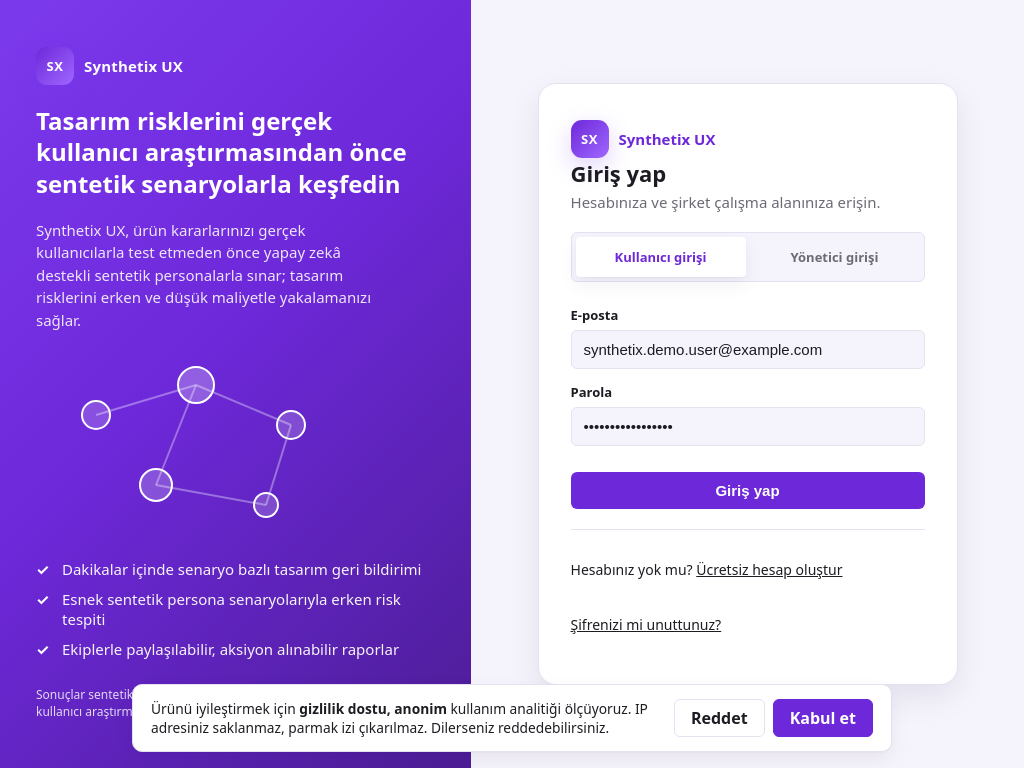
Test: Kimlik dogrulama route guard ve akislari › basarili giris sonrasi korumali sayfaya yonlendirir
Expected: the heading "Giriş yap" is shown, [570, 158, 666, 188]
Replace the text in the field labelled "E-posta" with "user@example.com": (748, 350) [570, 330, 924, 369]
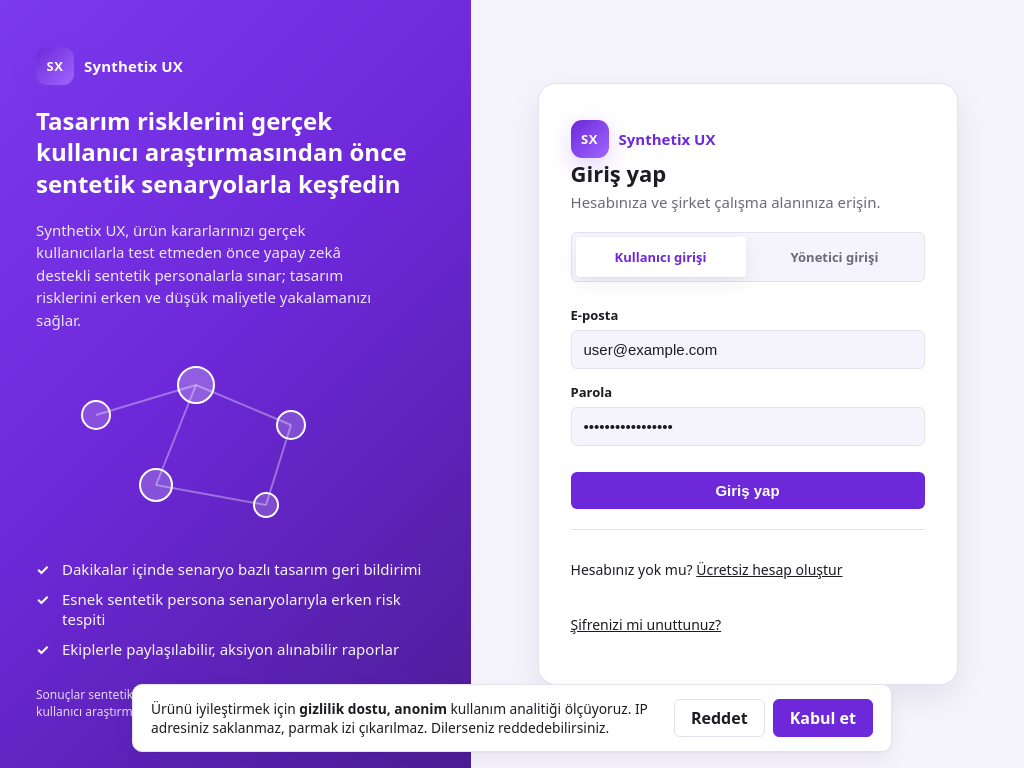
In the password field labelled "Parola": (748, 426) [570, 407, 924, 446], type "CorrectHorse123!"
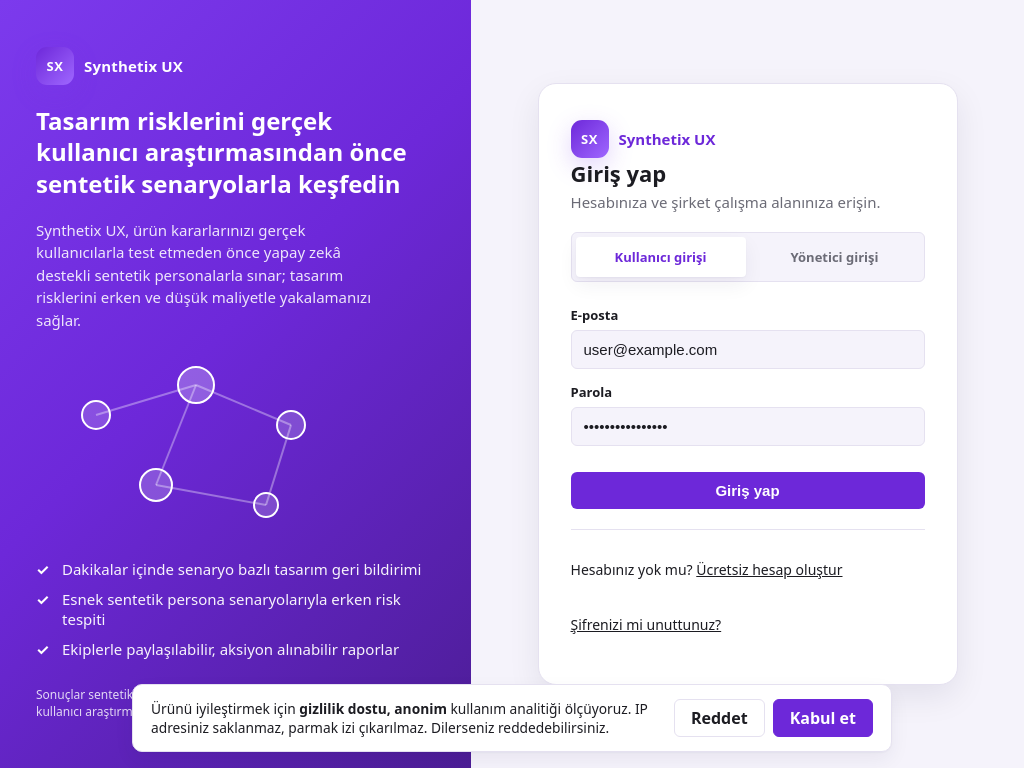
Click the button "Giriş yap": click(748, 490) [570, 472, 924, 509]
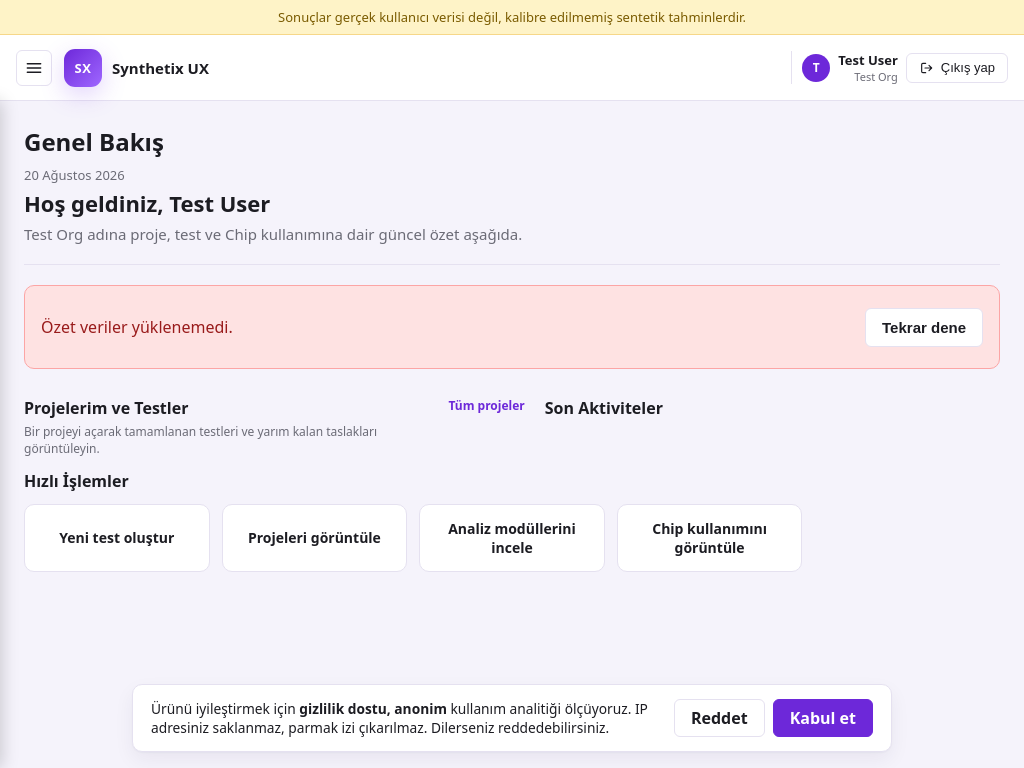
Expected: the heading "Genel Bakış" is shown, [24, 125, 164, 158]
